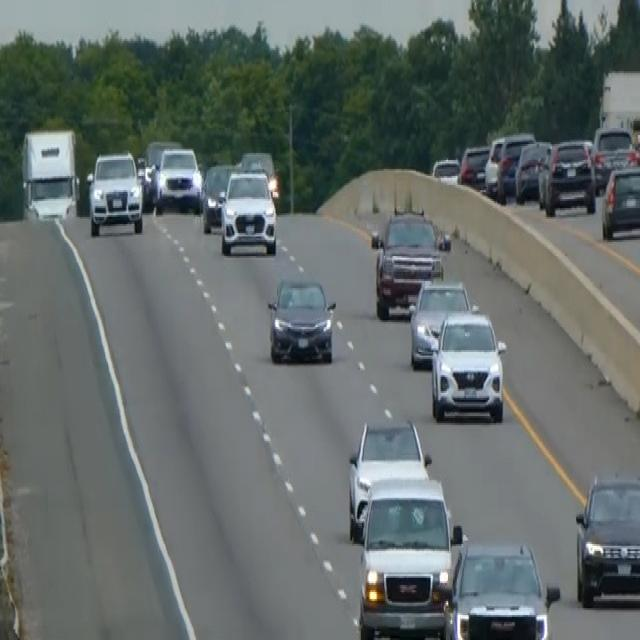car: (443, 534, 560, 638), (347, 416, 431, 540), (429, 306, 507, 423), (574, 469, 639, 608), (370, 204, 445, 320), (266, 274, 336, 364), (408, 276, 472, 368), (219, 167, 277, 256), (86, 148, 143, 236), (538, 137, 596, 217), (484, 130, 534, 201), (153, 144, 202, 213), (600, 162, 639, 240), (590, 124, 636, 190), (139, 139, 181, 206), (200, 160, 236, 233), (514, 138, 552, 204), (239, 149, 278, 199), (458, 142, 489, 188), (431, 155, 460, 181)
lorry: (19, 124, 81, 224)
minivan: (356, 473, 461, 638)
